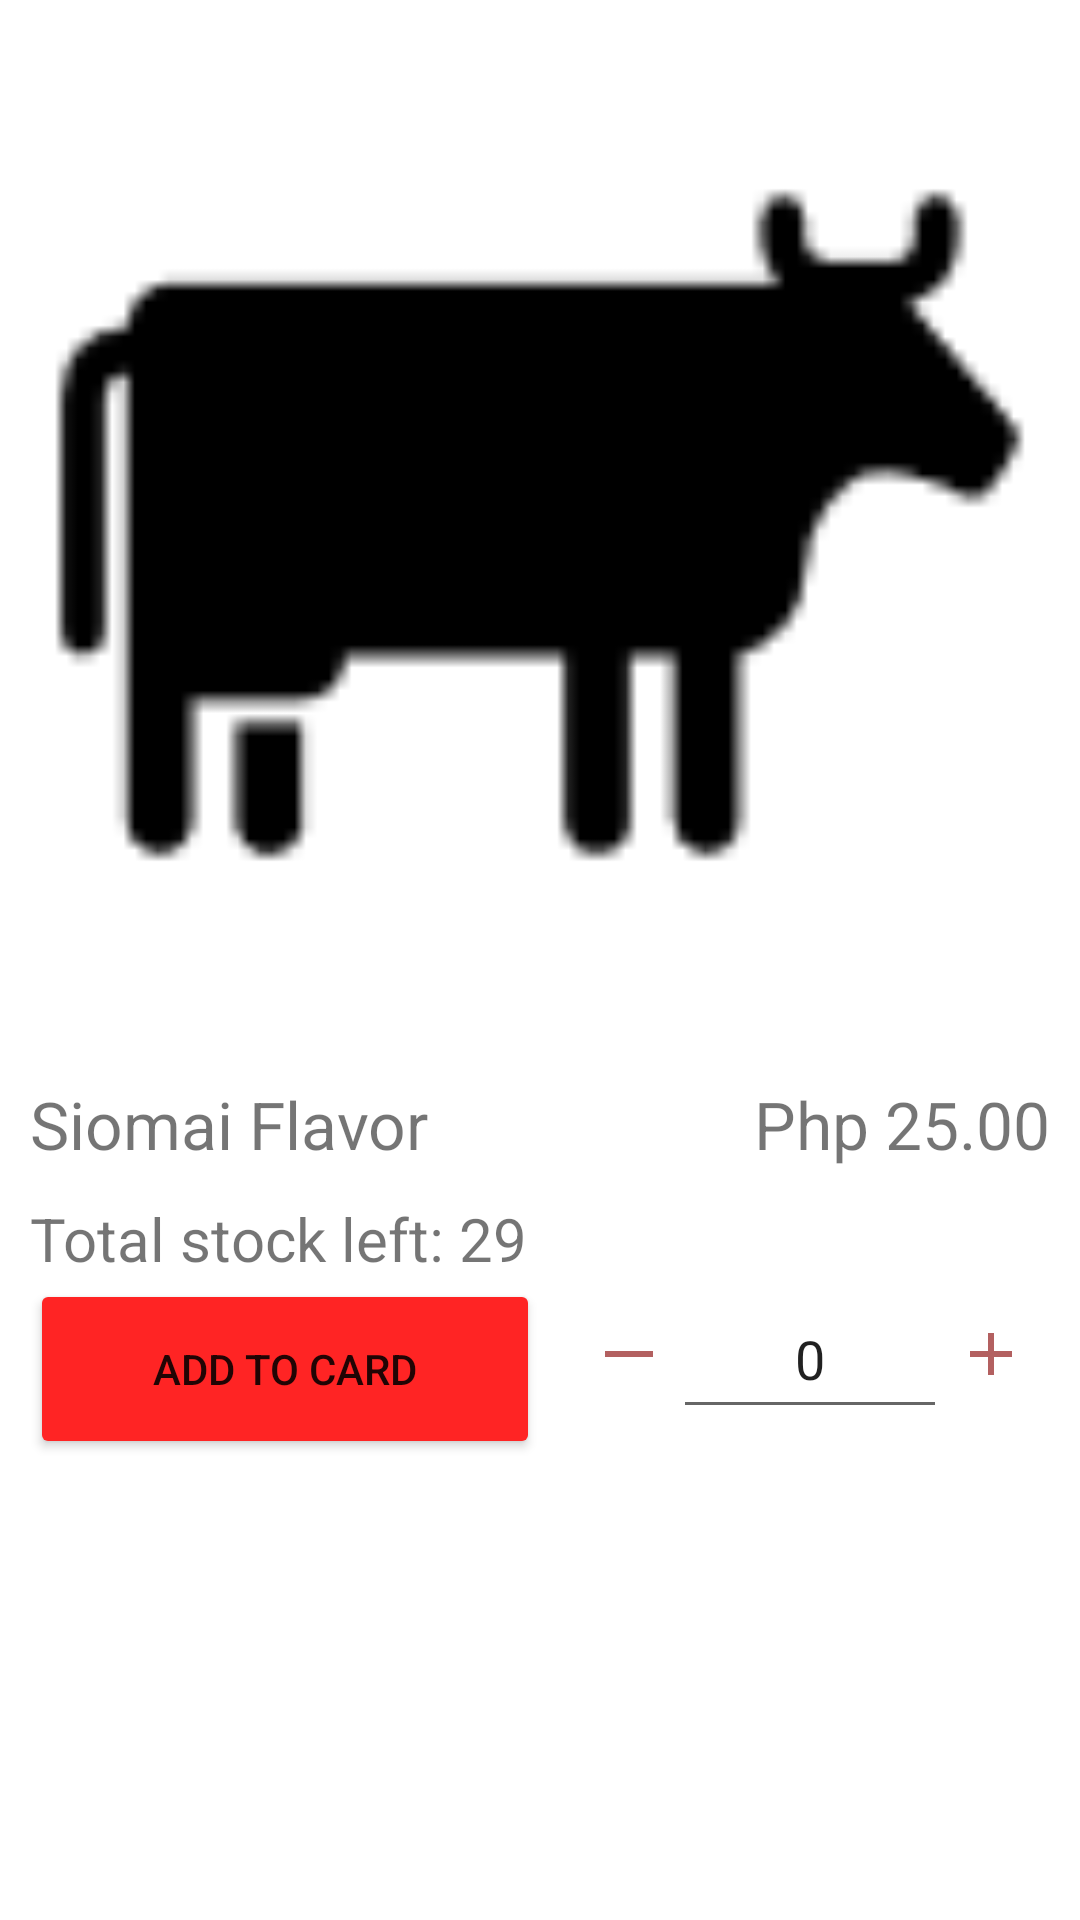

Icons on this 1080px x 1920px Android screen, each with its box as [left=x1, top=y1, right=x2, bottom=y2]:
add: [left=970, top=1333, right=1012, bottom=1375]
